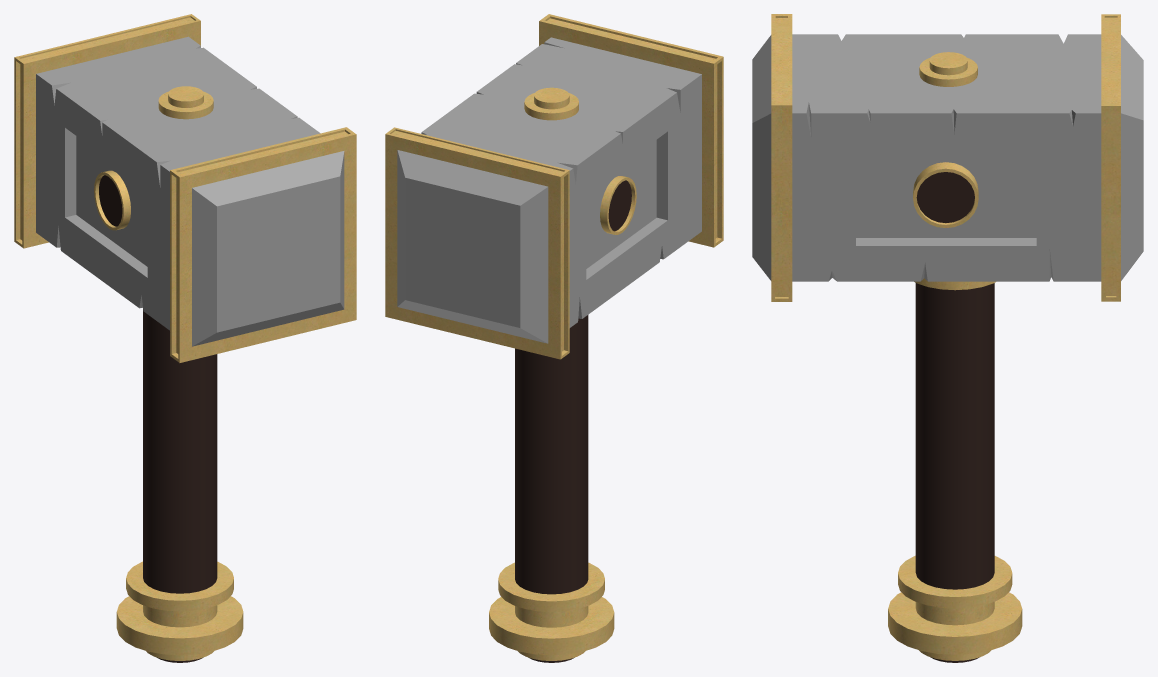
The model's file is BattleHammer.fbx.
The picture shows the model from 3 angles, left to right: view 1: azimuth 30°, elevation 25°; view 2: azimuth 150°, elevation 25°; view 3: azimuth 270°, elevation 25°; orthographic projection. The views are drawn at different scales.
Parts seen in each view (by area): view 1: Group1; view 2: Group1; view 3: Group1.
Part boxes in pixels (<box>): Group1: <box>14,14,356,662</box>; Group1: <box>385,14,723,662</box>; Group1: <box>752,14,1143,662</box>.
Bounding box in the file's own units: 2.31 × 6.95 × 4.17.
